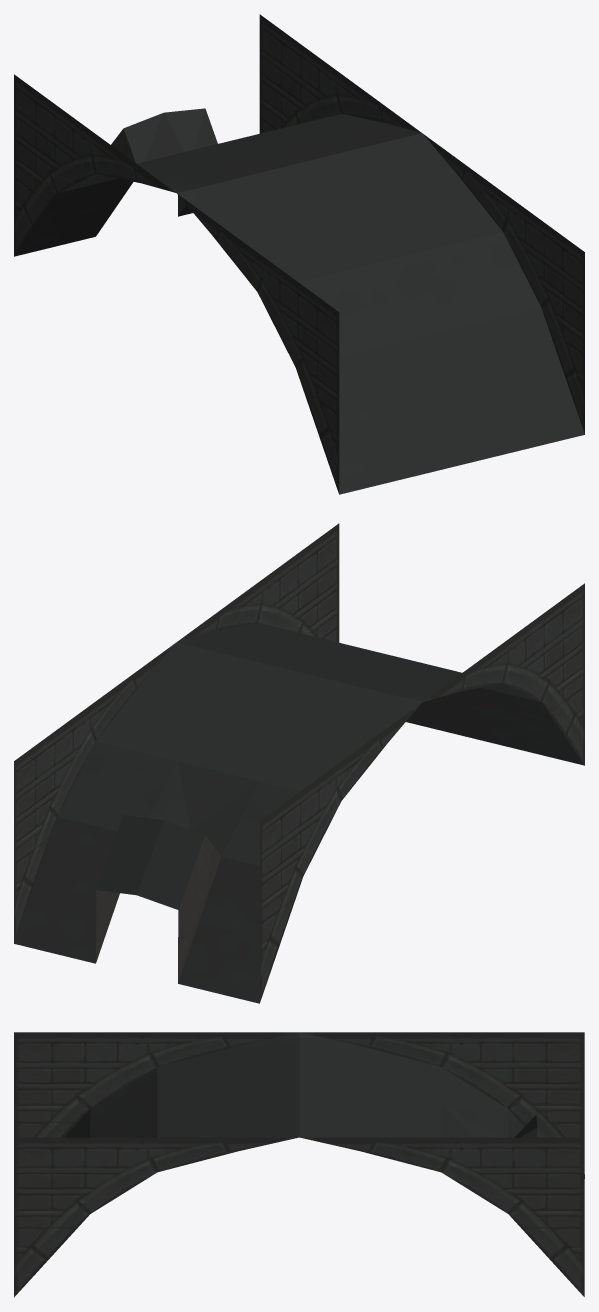
The model's file is cs_xinzhucheng_gongqiao_001.FBX.
The picture shows the model from 3 angles, top to bottom: view 1: azimuth 30°, elevation 25°; view 2: azimuth 150°, elevation 25°; view 3: azimuth 270°, elevation 25°; orthographic projection. The views are drawn at different scales.
Visible parts, largest first — view 1: cs_xinzhucheng_gongqiao_001; view 2: cs_xinzhucheng_gongqiao_001; view 3: cs_xinzhucheng_gongqiao_001.
Part boxes in pixels (x1=…): cs_xinzhucheng_gongqiao_001: x1=14, y1=14, x2=584, y2=494; cs_xinzhucheng_gongqiao_001: x1=14, y1=523, x2=584, y2=1003; cs_xinzhucheng_gongqiao_001: x1=14, y1=1032, x2=584, y2=1297.
Size of the model in its own units: 64.1 by 45.5 by 147.
